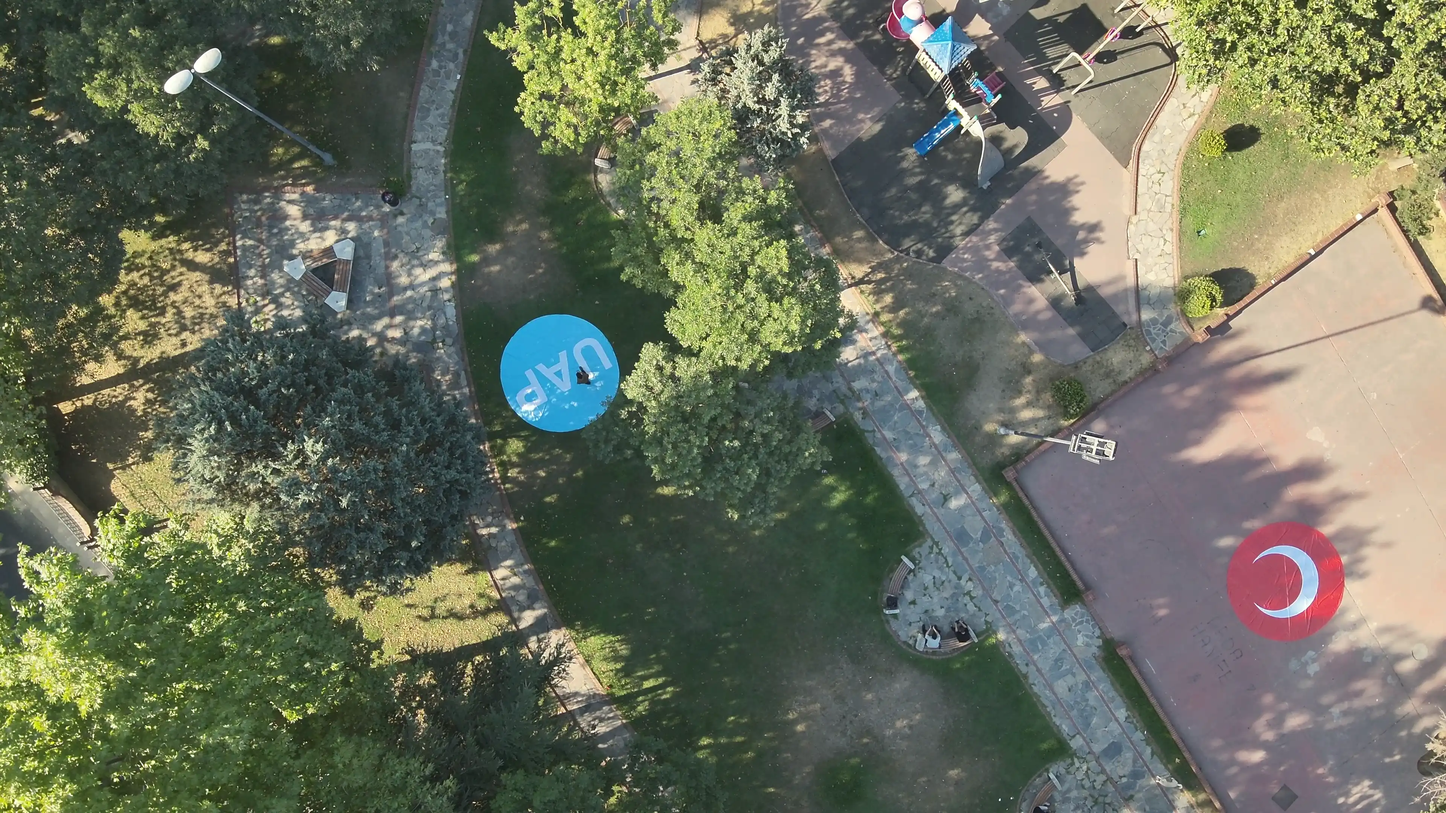UAP: (502, 315, 623, 432)
person: (570, 365, 597, 391)
